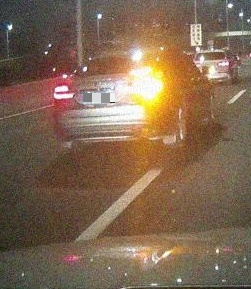L_light: (53, 85, 76, 100)
R_light: (120, 80, 160, 99)
T_light: (107, 56, 123, 59)
night-right: (53, 53, 165, 149)
plate_1: (83, 93, 115, 103)
